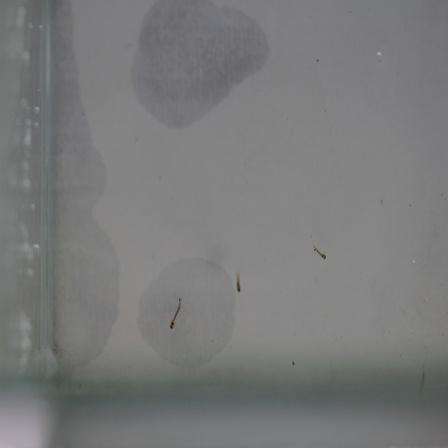Jentik-Nyamuk: (164, 294, 187, 332), (229, 265, 249, 298), (306, 239, 331, 264)
